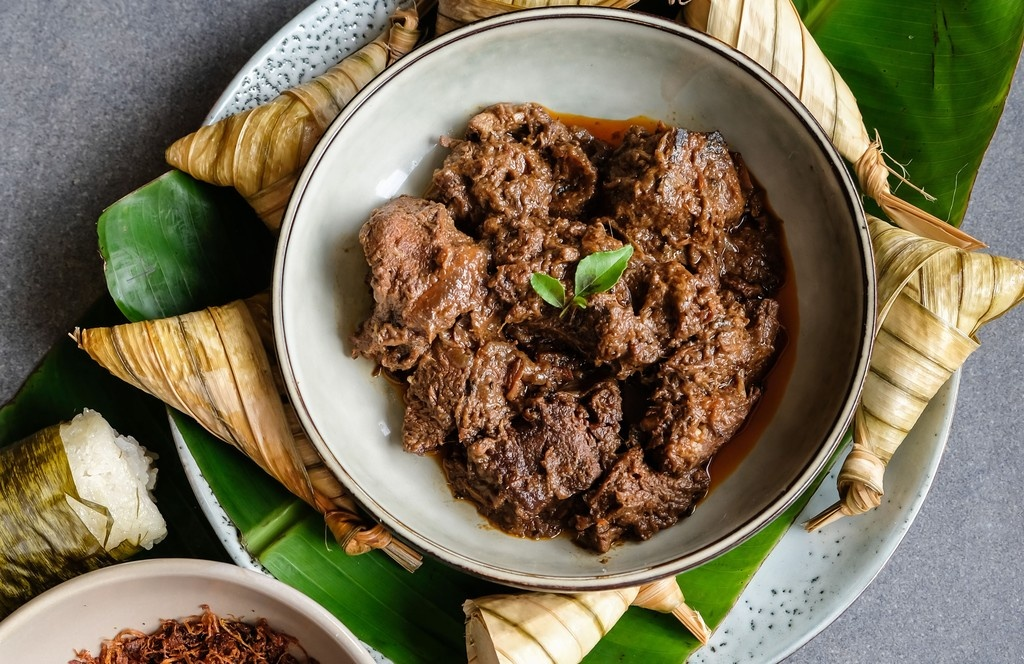rendang: (337, 113, 795, 550)
